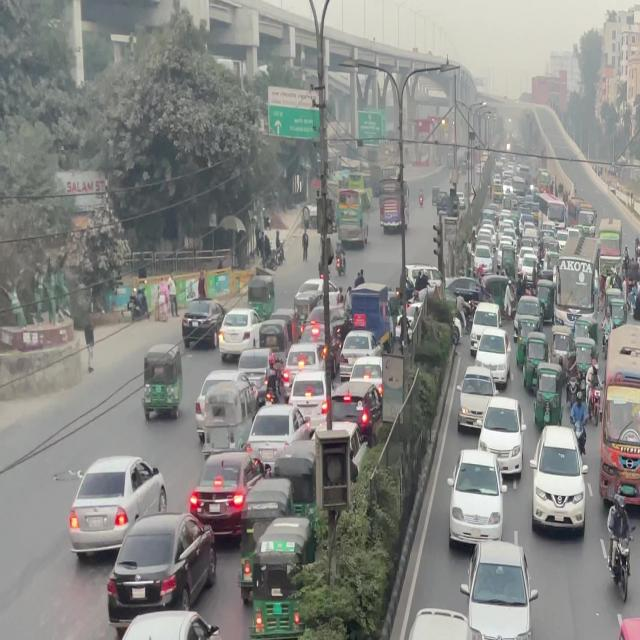bus: (449, 452, 509, 550), (598, 375, 640, 510)
car: (106, 512, 220, 624), (65, 456, 169, 560), (185, 453, 276, 542), (466, 542, 541, 640), (532, 431, 588, 538), (91, 611, 226, 640), (374, 605, 478, 640), (478, 398, 524, 466), (181, 304, 226, 354), (606, 621, 640, 640)
rickshaw: (244, 518, 318, 640), (142, 342, 183, 421)
